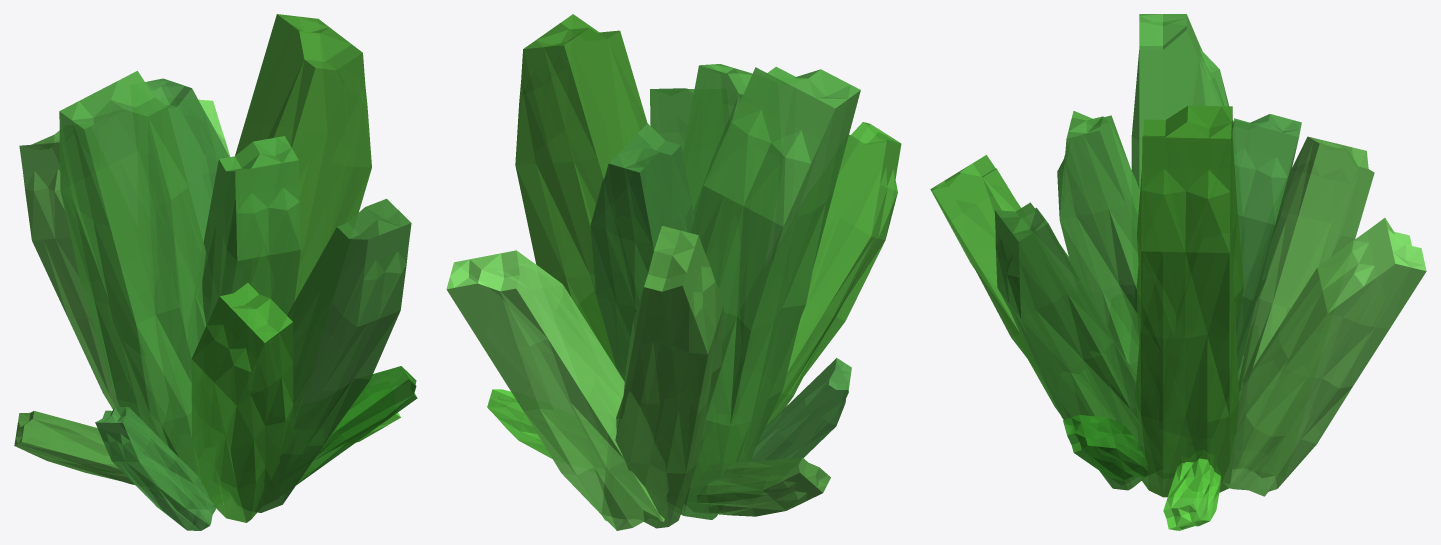
File: emerald.glb
3 renders of one model, left to right at view 1: azimuth 30°, elevation 25°; view 2: azimuth 150°, elevation 25°; view 3: azimuth 270°, elevation 25°, orthographic. The views are drawn at different scales.
Parts seen in each view (by area): view 1: Material-material, Material_007-material, Material_001-material, Material_006-material, Material_002-material, Material_003-material, Material_005-material, Material_008-material, Material_011-material, Material_009-material, Material_004-material; view 2: Material-material, Material_001-material, Material_004-material, Material_005-material, Material_003-material, Material_006-material, Material_002-material, Material_009-material, Material_008-material, Material_007-material, Material_010-material; view 3: Material_001-material, Material_004-material, Material_007-material, Material_003-material, Material_005-material, Material_002-material, Material-material, Material_006-material, Material_011-material, Material_010-material.
Boxes of the visible parts, left/top/right/bottom form: Material-material: left=59, top=70, right=225, bottom=508; Material_007-material: left=213, top=198, right=411, bottom=512; Material_001-material: left=162, top=14, right=371, bottom=475; Material_006-material: left=191, top=283, right=294, bottom=522; Material_002-material: left=188, top=136, right=300, bottom=421; Material_003-material: left=145, top=78, right=229, bottom=428; Material_005-material: left=19, top=130, right=168, bottom=438; Material_008-material: left=95, top=407, right=216, bottom=530; Material_011-material: left=280, top=366, right=417, bottom=495; Material_009-material: left=14, top=411, right=134, bottom=484; Material_004-material: left=198, top=99, right=230, bottom=156; Material-material: left=650, top=66, right=860, bottom=519; Material_001-material: left=515, top=14, right=744, bottom=484; Material_004-material: left=446, top=250, right=668, bottom=530; Material_005-material: left=602, top=226, right=723, bottom=528; Material_003-material: left=590, top=123, right=729, bottom=435; Material_006-material: left=735, top=122, right=901, bottom=446; Material_002-material: left=682, top=64, right=752, bottom=430; Material_009-material: left=685, top=457, right=830, bottom=516; Material_008-material: left=740, top=358, right=851, bottom=461; Material_007-material: left=650, top=88, right=694, bottom=152; Material_010-material: left=487, top=389, right=552, bottom=458; Material_001-material: left=1135, top=105, right=1243, bottom=497; Material_004-material: left=1217, top=218, right=1426, bottom=496; Material_007-material: left=994, top=202, right=1164, bottom=490; Material_003-material: left=1159, top=114, right=1301, bottom=438; Material_005-material: left=1233, top=136, right=1374, bottom=477; Material_002-material: left=1057, top=111, right=1175, bottom=432; Material-material: left=1130, top=14, right=1243, bottom=478; Material_006-material: left=930, top=155, right=1137, bottom=438; Material_011-material: left=1063, top=415, right=1149, bottom=484; Material_010-material: left=1163, top=450, right=1221, bottom=530.
Bounding box in the file's own units: 1.71 × 2.08 × 2.2.
